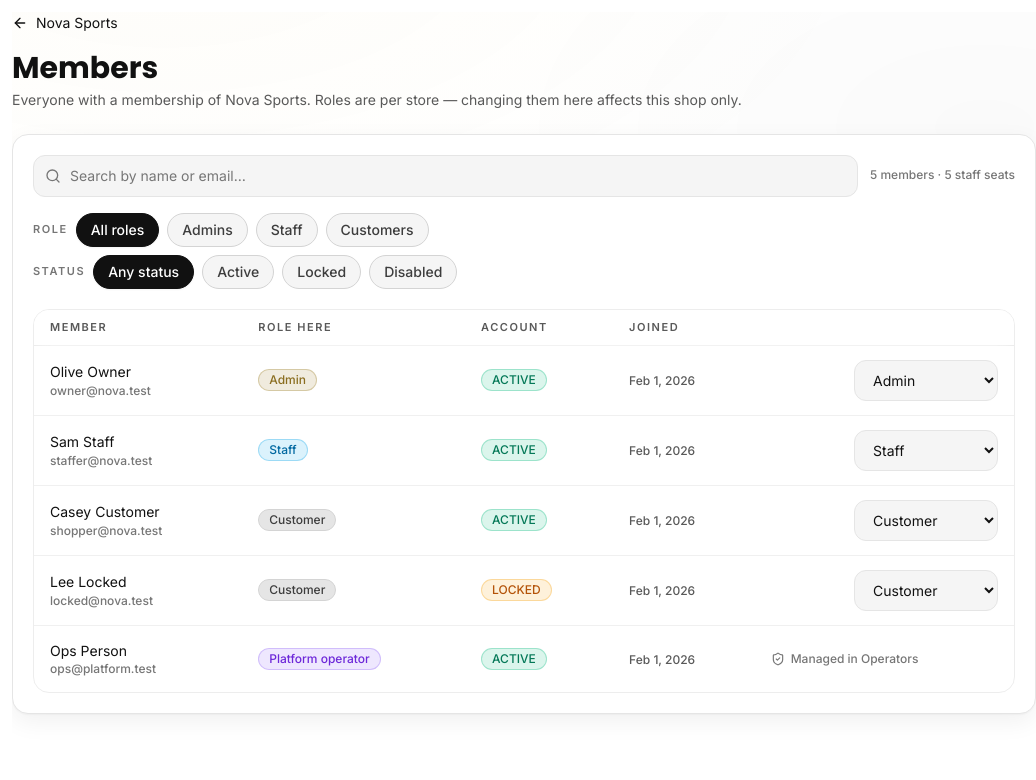
Test case: Store members — filters › filters by account status
Expected: the text "Olive Owner" is shown, [50,363,131,380]
Click the button "Locked": point(322, 272) [297,262,346,282]
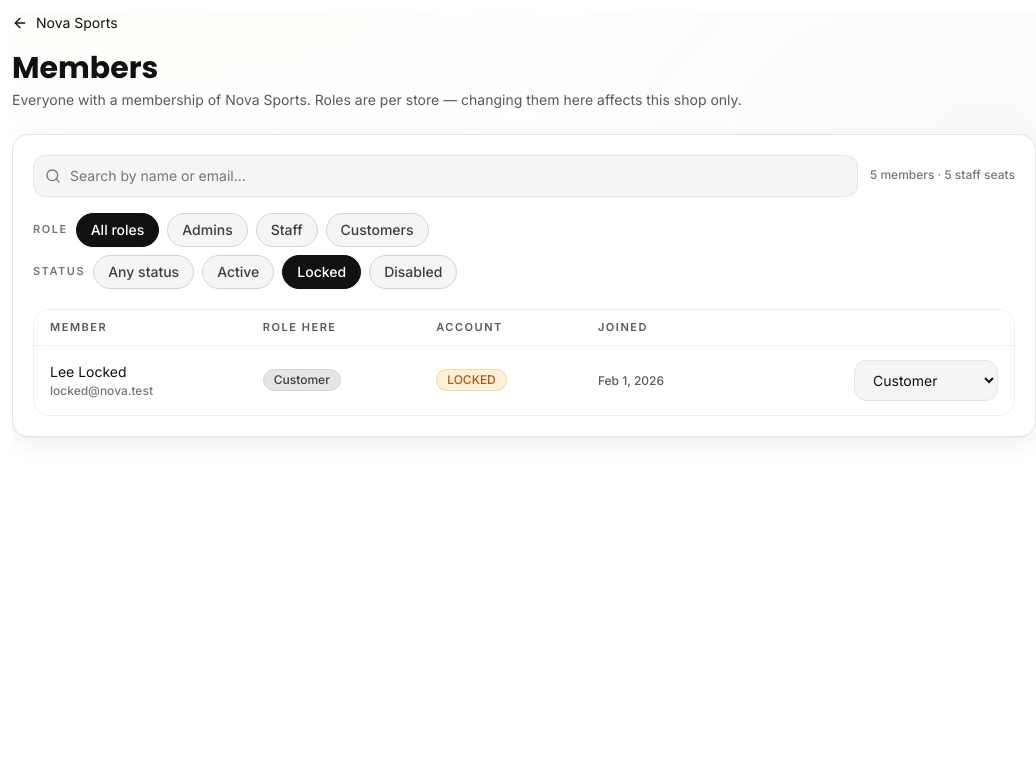
Expected: the text "Lee Locked" is shown, [50,363,127,380]
Now the text "Casey Customer" is gone
